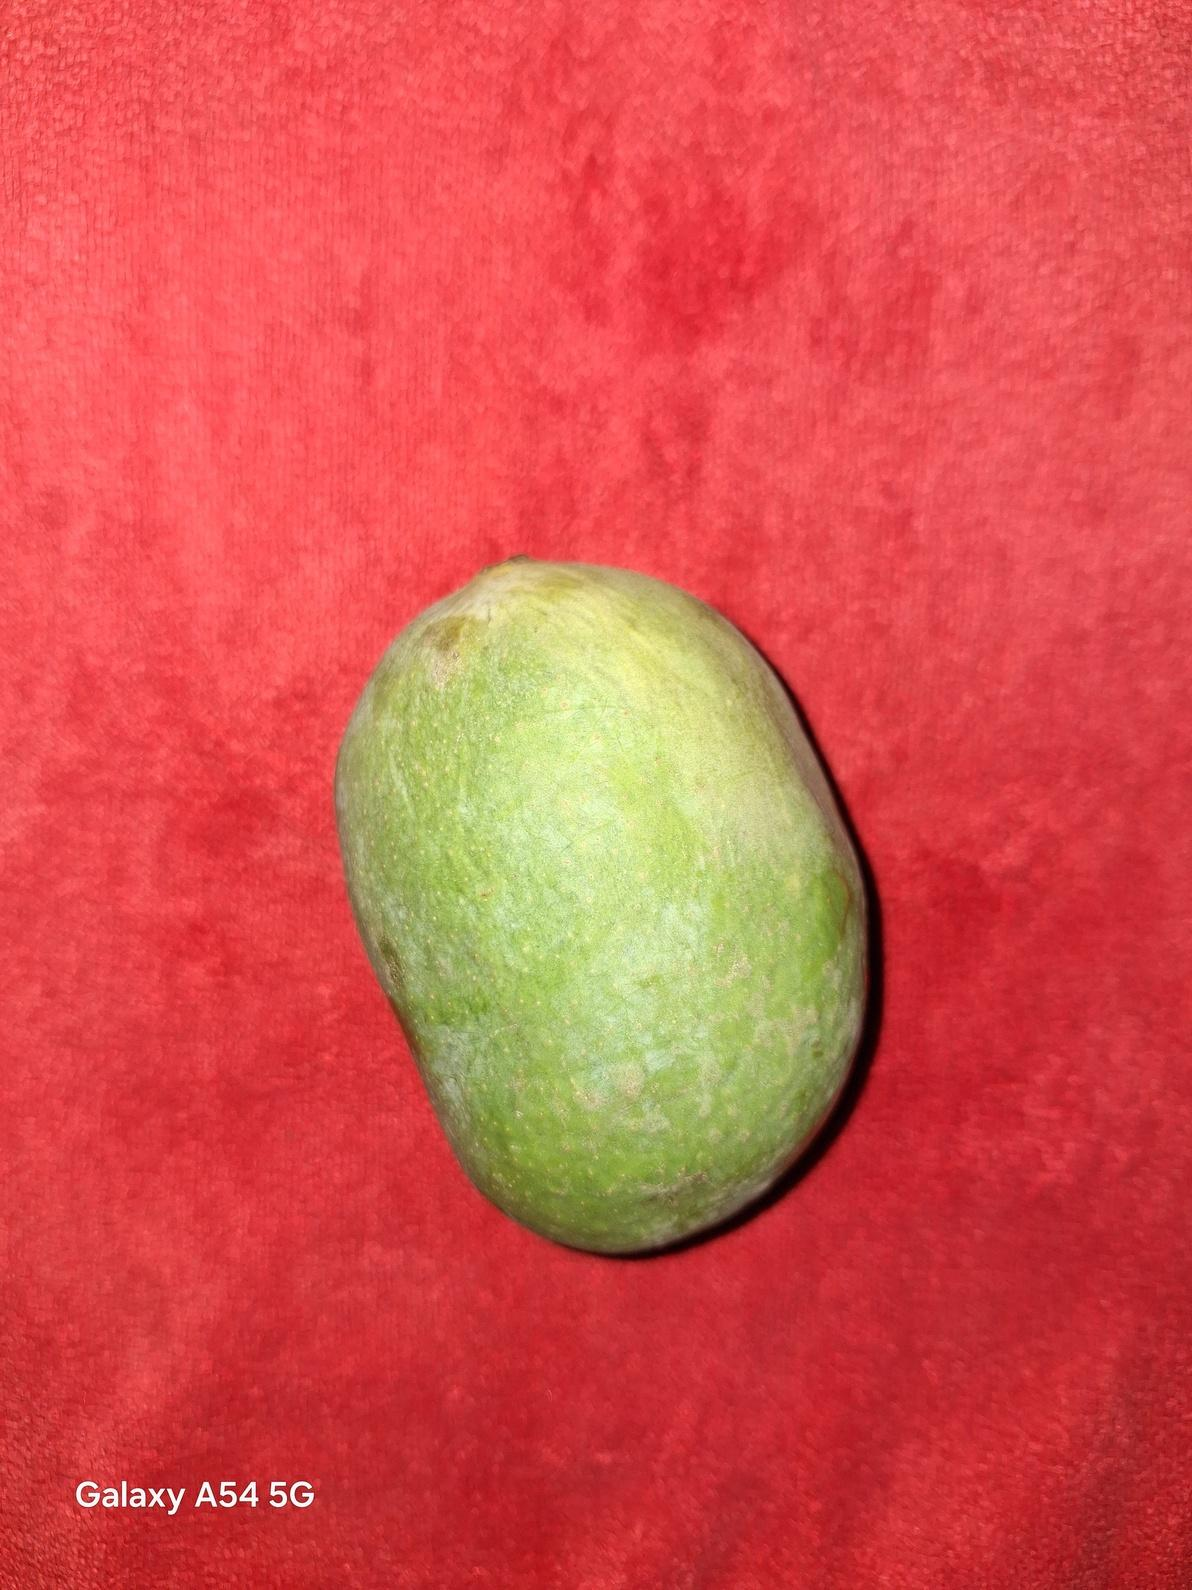mango: (332, 551, 870, 1257)
